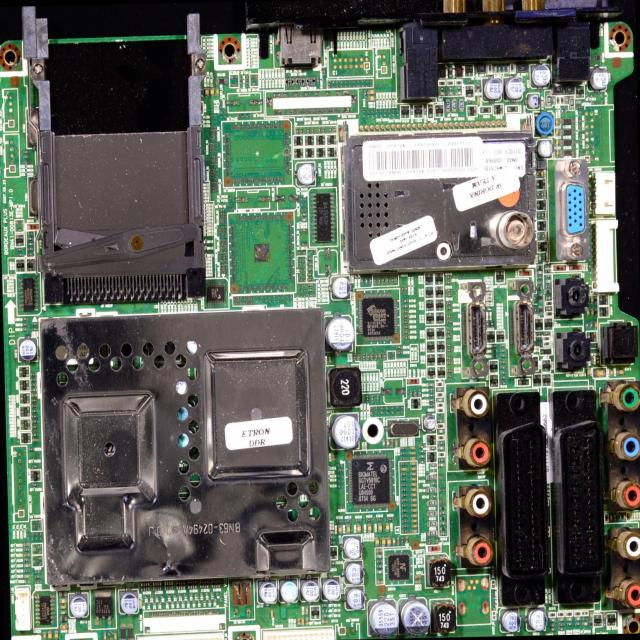Capacitor: (593, 368, 606, 378), (374, 537, 380, 547), (381, 537, 386, 547), (59, 598, 67, 604), (386, 537, 391, 546), (32, 437, 39, 443), (586, 368, 590, 378), (609, 368, 613, 378), (378, 524, 383, 532), (357, 525, 362, 533), (346, 525, 351, 533), (376, 579, 384, 584), (549, 617, 557, 622), (47, 632, 52, 640), (385, 523, 389, 532), (42, 631, 46, 640), (114, 631, 118, 640), (210, 88, 214, 97), (31, 392, 38, 397), (60, 624, 67, 629), (582, 622, 589, 627), (390, 439, 394, 447), (367, 524, 371, 532), (338, 526, 342, 534), (404, 536, 408, 544), (305, 617, 309, 625), (55, 631, 59, 639), (205, 88, 209, 96), (216, 88, 220, 96), (554, 118, 558, 126), (555, 128, 559, 136), (590, 308, 594, 316), (618, 369, 623, 375), (60, 604, 66, 609), (557, 617, 563, 622), (368, 90, 374, 95), (409, 451, 416, 455), (396, 537, 400, 544), (60, 610, 67, 614), (270, 611, 274, 618), (300, 618, 304, 625), (321, 620, 328, 624), (368, 96, 375, 100), (395, 439, 398, 448), (594, 321, 597, 330), (411, 466, 416, 471), (582, 616, 587, 621), (410, 461, 416, 465), (411, 508, 417, 512), (376, 549, 382, 553), (24, 564, 30, 568), (414, 574, 420, 578), (415, 579, 421, 583), (297, 617, 300, 625), (574, 617, 580, 621), (566, 617, 572, 621), (555, 139, 558, 147), (590, 296, 593, 304), (411, 514, 418, 517), (305, 607, 308, 614), (103, 632, 106, 639), (411, 472, 416, 476), (411, 482, 416, 486), (411, 498, 416, 502), (410, 446, 416, 449), (410, 457, 416, 460), (411, 504, 417, 507), (412, 519, 418, 522), (412, 524, 418, 527), (586, 310, 589, 316), (401, 468, 406, 471), (411, 488, 416, 491), (24, 553, 29, 556), (332, 454, 334, 461), (410, 478, 416, 480), (412, 530, 418, 532), (24, 575, 30, 577), (556, 150, 558, 156), (24, 544, 29, 546), (412, 494, 416, 496)
IC: (228, 211, 296, 294), (221, 120, 293, 187), (344, 450, 393, 512), (308, 187, 337, 247), (89, 586, 116, 628), (384, 549, 414, 586), (16, 272, 41, 316), (228, 579, 254, 620), (32, 589, 57, 629)
Resistor Network: (402, 512, 409, 518), (386, 517, 394, 522), (34, 579, 42, 584), (402, 308, 410, 313), (382, 352, 387, 360), (352, 353, 357, 361), (361, 353, 366, 361), (397, 349, 403, 355), (400, 456, 407, 461), (401, 498, 408, 503), (401, 503, 408, 508), (402, 519, 409, 524), (338, 504, 346, 508), (402, 529, 410, 533), (394, 276, 398, 284), (366, 352, 370, 360), (378, 353, 382, 361), (447, 373, 453, 378), (31, 382, 37, 387), (32, 398, 38, 403), (32, 424, 38, 429), (400, 446, 406, 451), (402, 493, 408, 498), (337, 518, 342, 524), (23, 557, 29, 562), (24, 568, 30, 573), (404, 314, 409, 320), (403, 319, 409, 324), (400, 472, 407, 476), (402, 524, 409, 528), (376, 560, 383, 564), (376, 565, 383, 569), (404, 285, 408, 292), (396, 345, 403, 349), (357, 353, 361, 360), (374, 353, 378, 360), (32, 326, 37, 331), (500, 371, 506, 375), (436, 382, 442, 386), (428, 398, 434, 402), (400, 452, 406, 456), (401, 478, 407, 482), (402, 508, 408, 512), (377, 518, 383, 522), (356, 519, 362, 523), (446, 280, 452, 284), (402, 299, 408, 303), (22, 317, 28, 321), (22, 328, 28, 332), (403, 330, 409, 334), (403, 335, 409, 339), (500, 360, 506, 364), (17, 253, 24, 256), (390, 276, 393, 283), (373, 277, 376, 284), (369, 277, 372, 284), (382, 277, 385, 284), (371, 353, 374, 360), (31, 372, 36, 376), (447, 369, 452, 373), (31, 378, 36, 382), (32, 388, 37, 392), (32, 414, 37, 418), (33, 433, 38, 437), (29, 448, 34, 452), (402, 483, 407, 487), (402, 488, 407, 492), (366, 518, 371, 522), (35, 574, 40, 578), (23, 149, 28, 153), (446, 275, 451, 279), (446, 288, 451, 292), (447, 301, 452, 305), (403, 304, 408, 308), (23, 322, 27, 327), (447, 335, 452, 339), (447, 348, 452, 352), (500, 348, 505, 352), (447, 361, 452, 365), (428, 388, 434, 391), (400, 462, 406, 465), (23, 548, 29, 551), (23, 155, 29, 158), (23, 160, 29, 163), (27, 237, 33, 240), (386, 277, 389, 283), (361, 278, 364, 284), (365, 278, 368, 284), (401, 286, 404, 292), (402, 326, 408, 329), (500, 344, 506, 347), (501, 366, 505, 370), (501, 376, 505, 380), (32, 403, 36, 407), (33, 409, 37, 413), (33, 420, 37, 424), (346, 519, 350, 523), (447, 306, 451, 310), (429, 404, 434, 407), (28, 242, 33, 245), (28, 247, 33, 250), (28, 253, 33, 256), (446, 294, 451, 297), (447, 329, 450, 334), (500, 354, 505, 357), (447, 357, 452, 360), (378, 277, 380, 283), (32, 322, 36, 325), (447, 315, 451, 318), (502, 382, 507, 384), (429, 394, 434, 396), (17, 248, 22, 250), (447, 320, 452, 322), (447, 344, 451, 346)
Transistor: (413, 105, 425, 119), (15, 257, 26, 271), (19, 406, 31, 418), (19, 379, 30, 392), (541, 373, 551, 387), (434, 104, 444, 118), (14, 219, 24, 233), (26, 258, 36, 272), (18, 366, 29, 378), (606, 614, 616, 627), (400, 105, 410, 118), (14, 233, 24, 246), (19, 393, 30, 404), (488, 360, 498, 372), (532, 374, 542, 386), (592, 614, 602, 626), (464, 65, 474, 77), (489, 374, 498, 387), (465, 85, 474, 98), (506, 105, 519, 114), (495, 270, 504, 283), (21, 433, 31, 444), (467, 105, 477, 116), (541, 360, 550, 372), (544, 317, 552, 330), (534, 320, 544, 330), (493, 104, 502, 115), (540, 348, 552, 356), (330, 546, 337, 559), (479, 107, 492, 114), (20, 420, 30, 429), (427, 103, 433, 118)
